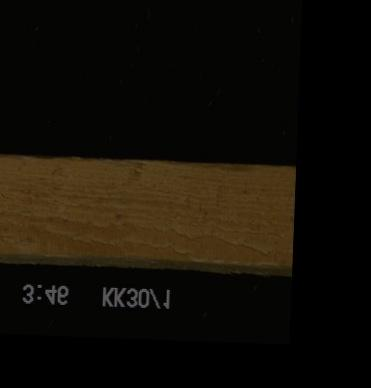wave: (158, 160, 255, 177)
